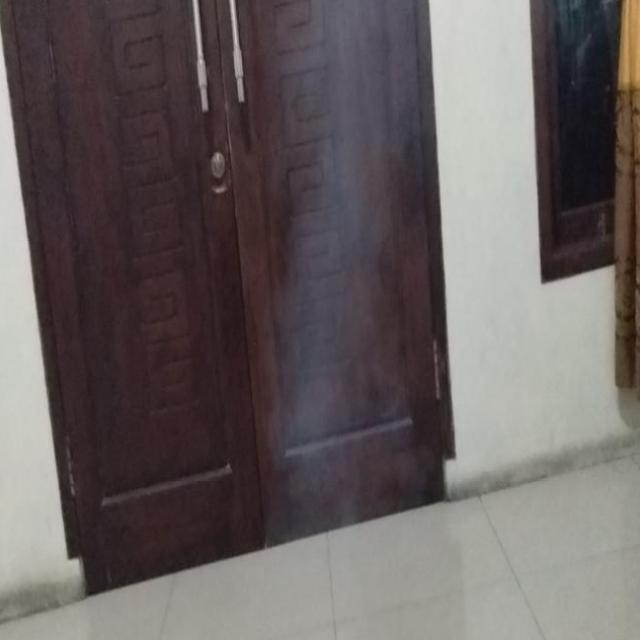fire: (268, 0, 397, 502)
